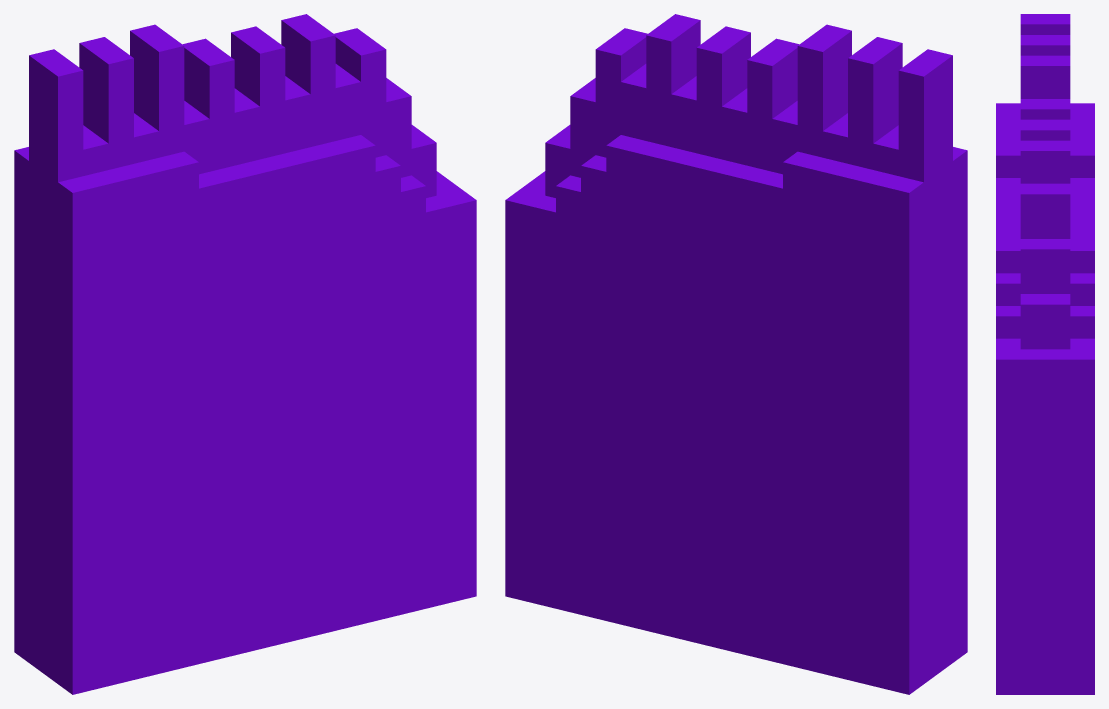
The model's file is hair_mohawk.obj.
3 renders of one model, left to right at view 1: azimuth 30°, elevation 25°; view 2: azimuth 150°, elevation 25°; view 3: azimuth 270°, elevation 25°, orthographic. The views are drawn at different scales.
Visible parts, largest first — view 1: Box; view 2: Box; view 3: Box.
Boxes of the visible parts, left/top/right/bottom form: Box: left=14, top=14, right=476, bottom=694; Box: left=505, top=14, right=967, bottom=694; Box: left=996, top=14, right=1094, bottom=694.
Bounding box in the file's own units: 16 × 23 × 4.
